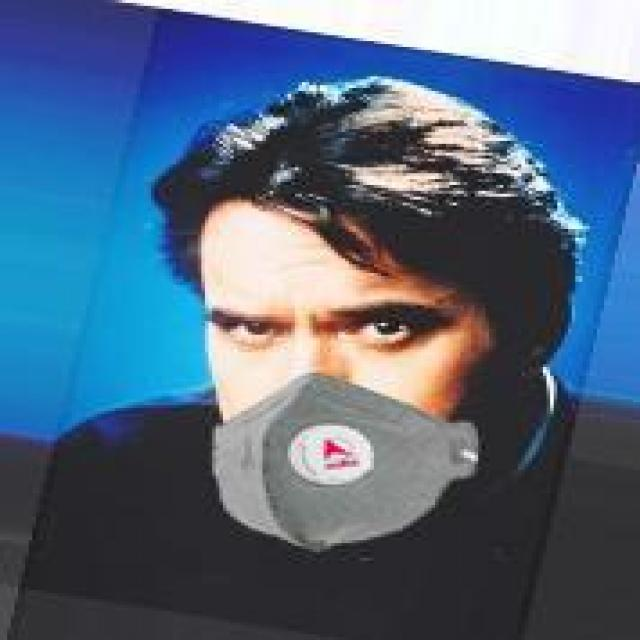mask: (155, 94, 604, 569)
